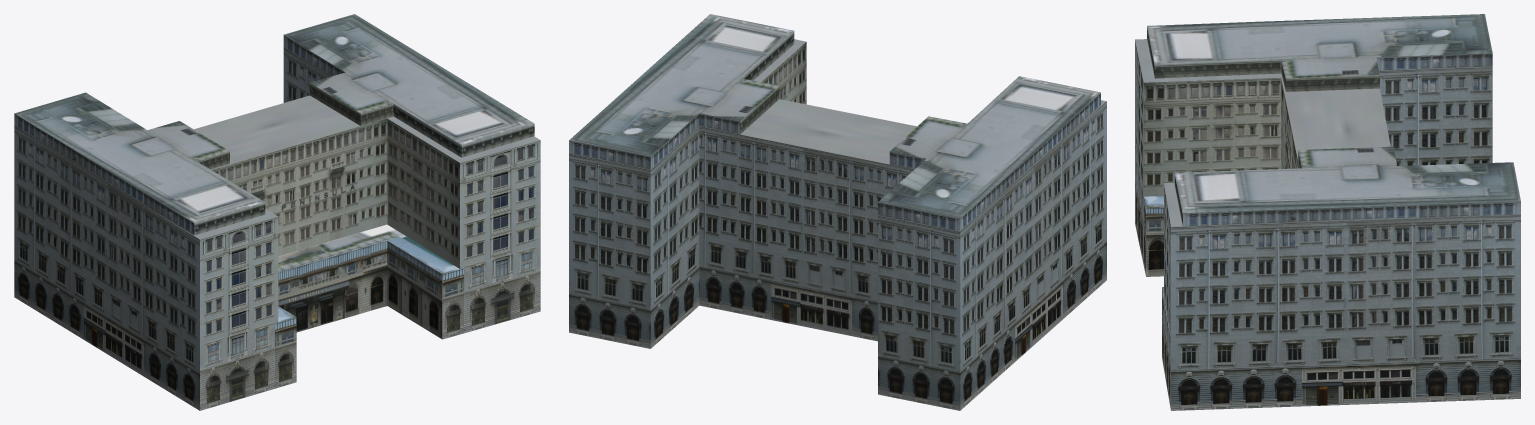
The picture shows the model from 3 angles, left to right: view 1: azimuth 30°, elevation 25°; view 2: azimuth 150°, elevation 25°; view 3: azimuth 270°, elevation 25°; orthographic projection. The views are drawn at different scales.
Parts seen in each view (by area): view 1: B357421737101062A0; view 2: B357421737101062A0; view 3: B357421737101062A0.
Boxes of the visible parts, x1=… form: B357421737101062A0: x1=14, y1=14, x2=540, y2=410; B357421737101062A0: x1=569, y1=14, x2=1106, y2=410; B357421737101062A0: x1=1135, y1=14, x2=1520, y2=410.
Bounding box in the file's own units: 87.69 × 40.54 × 71.75.
1 material, 1 textured.
